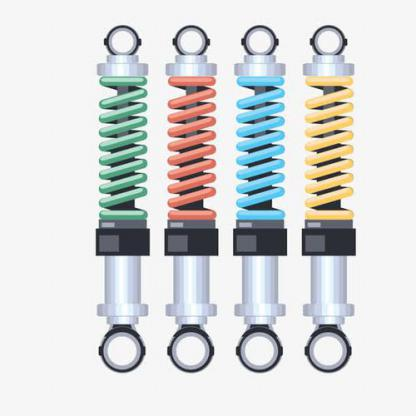FOD: (96, 76, 152, 220), (302, 74, 356, 221), (163, 76, 216, 220), (233, 76, 286, 220)
